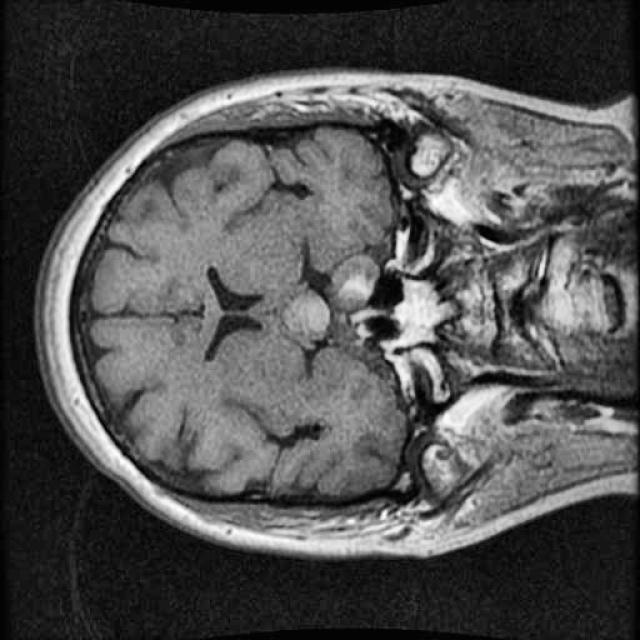Tumor: (266, 238, 392, 360)
